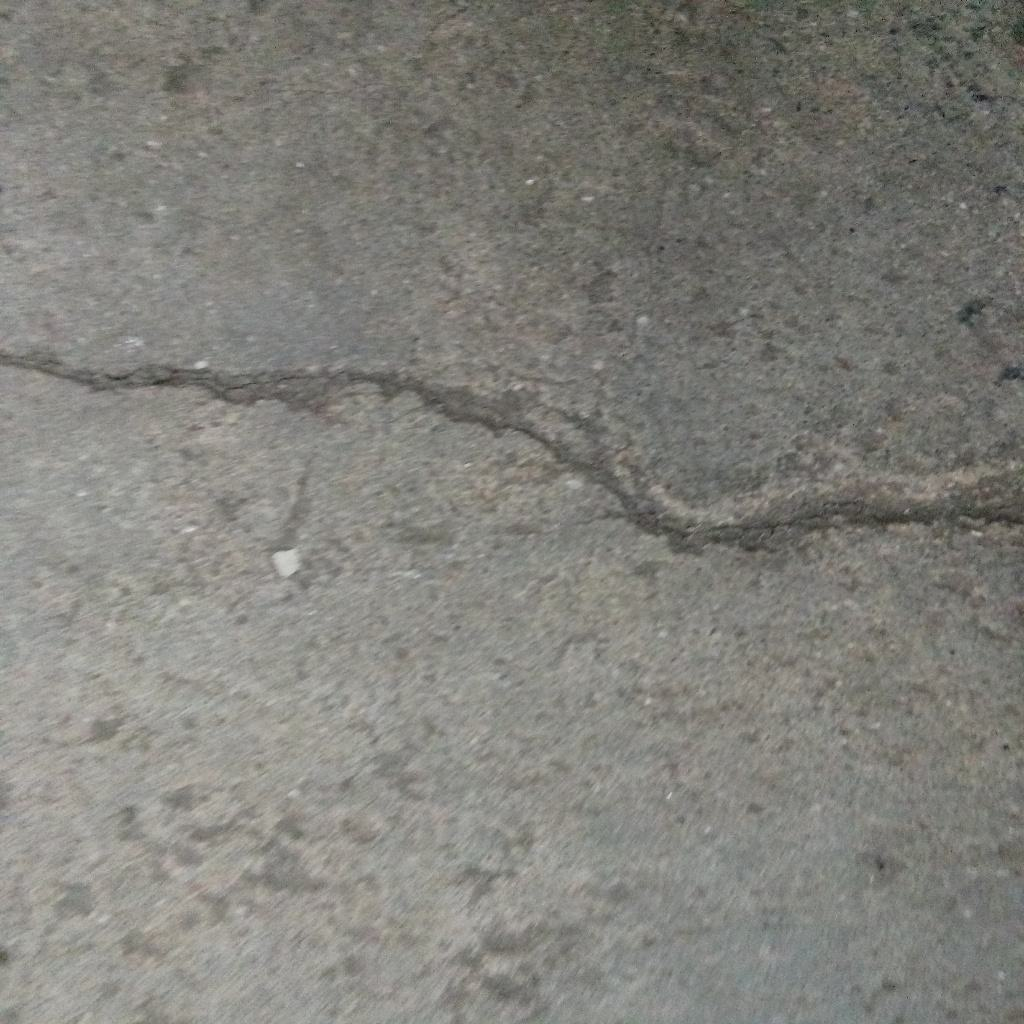Crack: (1, 348, 1024, 557)
